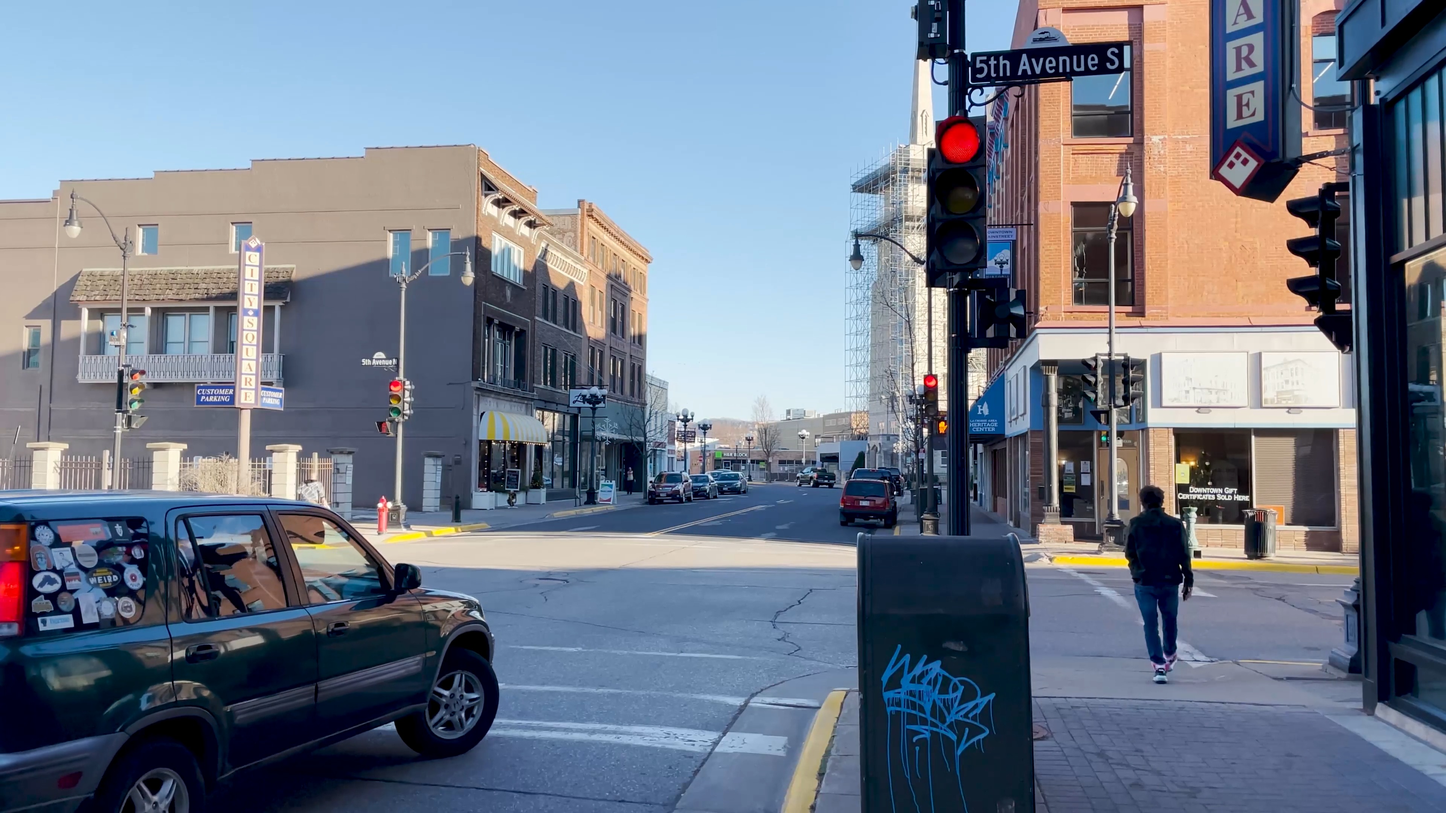red traffic light: (927, 113, 999, 286)
